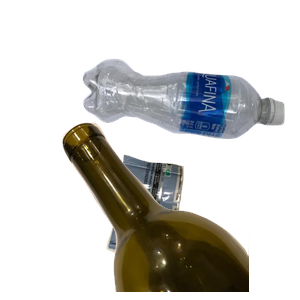glass: (60, 120, 300, 300)
metal: (99, 70, 236, 176)
plastic: (80, 56, 300, 187)
trash: (104, 152, 280, 300)
